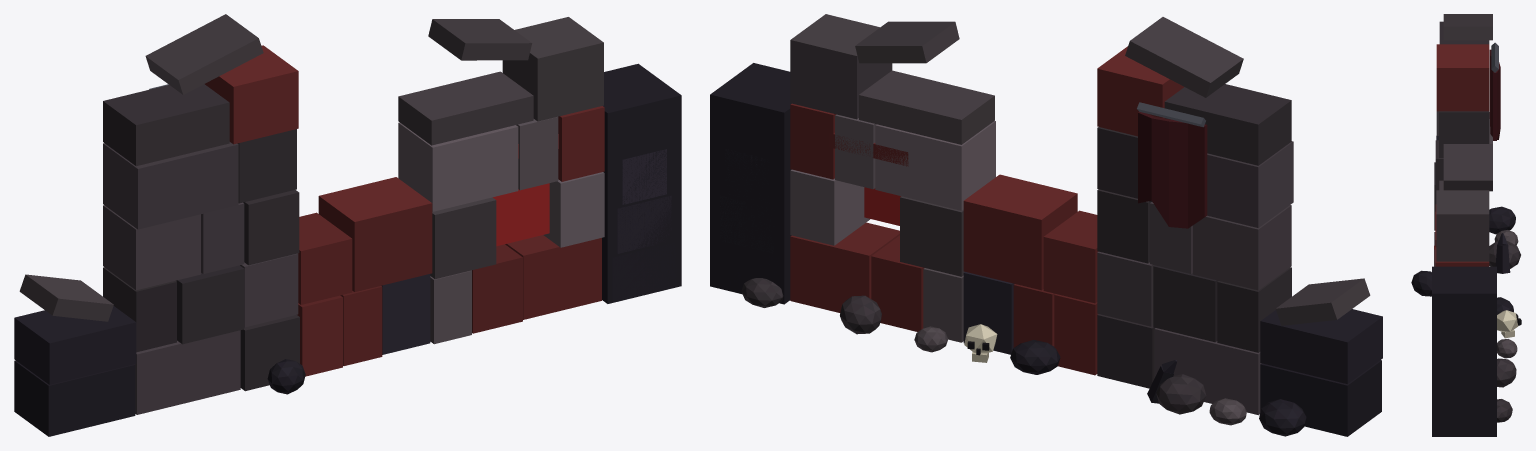
The model's file is Decor_HellGate_RuinedWall.fbx.
3 renders of one model, left to right at view 1: azimuth 30°, elevation 25°; view 2: azimuth 150°, elevation 25°; view 3: azimuth 270°, elevation 25°, orthographic. The views are drawn at different scales.
Parts seen in each view (by area): view 1: RuinedWall_Body; view 2: RuinedWall_Body; view 3: RuinedWall_Body.
Part boxes in pixels (left/top/right/bottom): RuinedWall_Body: left=14, top=14, right=681, bottom=436; RuinedWall_Body: left=710, top=14, right=1382, bottom=436; RuinedWall_Body: left=1411, top=14, right=1521, bottom=436.
Bounding box in the file's own units: 26.7 × 14.2 × 5.4.
